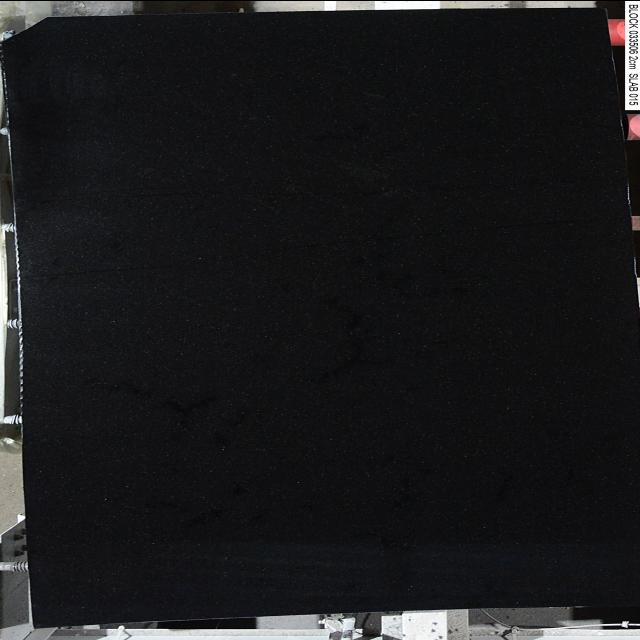chapa: (2, 6, 638, 626)
